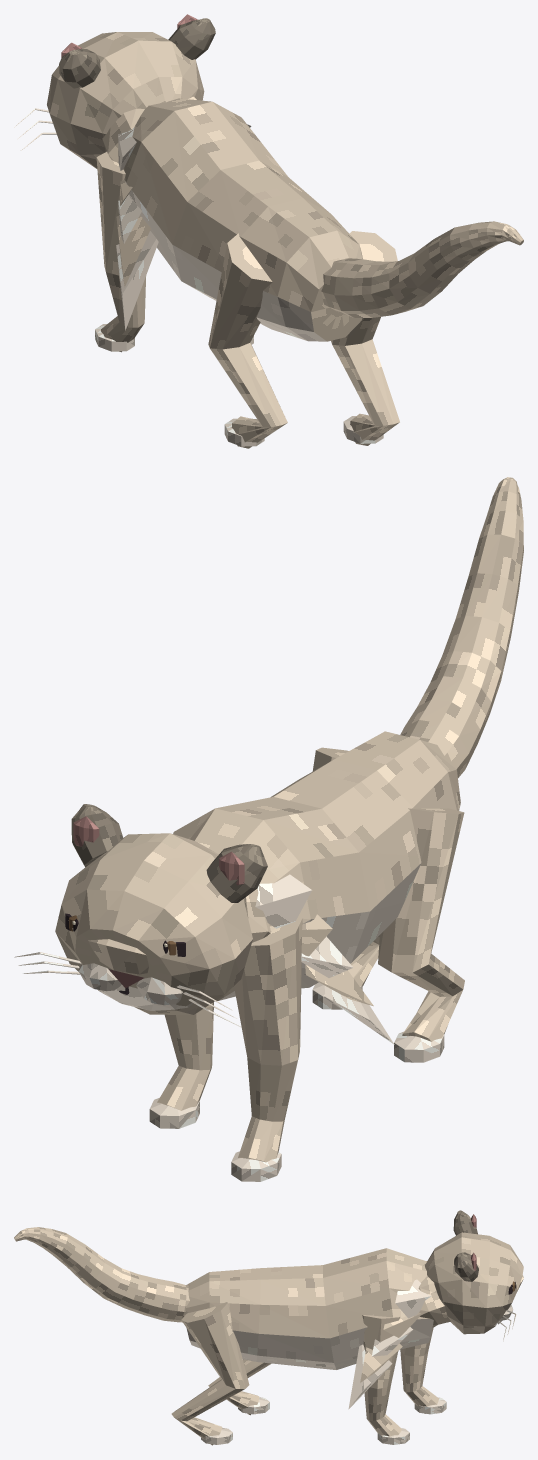
File: mon_cat_persian.glb
3 renders of one model, top to bottom at view 1: azimuth 30°, elevation 25°; view 2: azimuth 150°, elevation 25°; view 3: azimuth 270°, elevation 25°, orthographic. The views are drawn at different scales.
Parts seen in each view (by area): view 1: closed_body; view 2: closed_body; view 3: closed_body.
Boxes of the visible parts, x1=… form: closed_body: x1=14, y1=14, x2=523, y2=448; closed_body: x1=14, y1=477, x2=523, y2=1181; closed_body: x1=14, y1=1210, x2=523, y2=1445.
Size of the model in its own units: 0.2333 by 0.3704 by 0.7872.
1 material, 1 textured.
